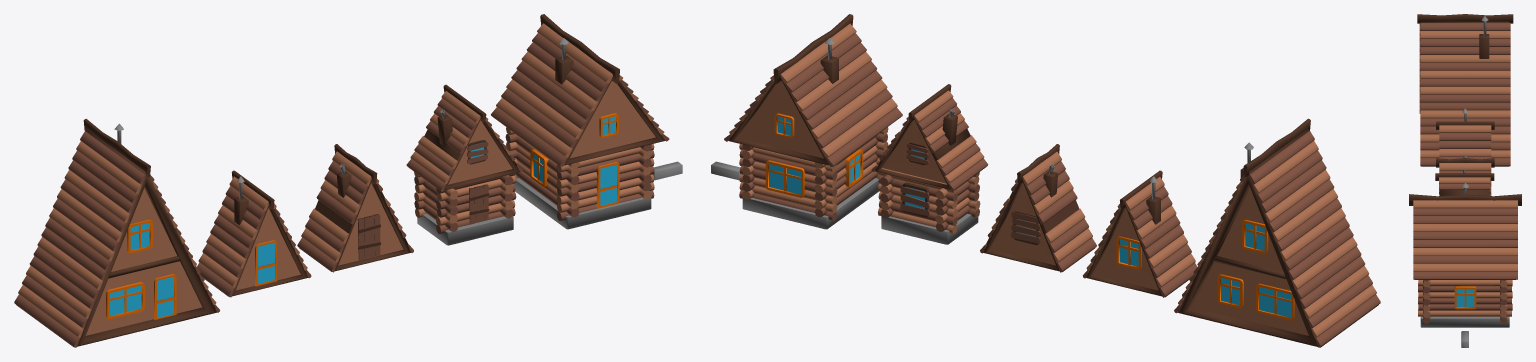
Rendered from Forest_House_Smooth.fbx.
3 views of the same model, side by side, from view 1: azimuth 30°, elevation 25°; view 2: azimuth 150°, elevation 25°; view 3: azimuth 270°, elevation 25° (orthographic). The views are drawn at different scales.
Visible parts, largest first — view 1: Forest_House_Smooth_Type 1_01, Forest_House_Smooth_Type 2_01, Forest_House_Smooth_Type 2_02, Forest_House_Smooth_Type 1_03, Forest_House_Smooth_Type 1_02; view 2: Forest_House_Smooth_Type 1_01, Forest_House_Smooth_Type 2_01, Forest_House_Smooth_Type 2_02, Forest_House_Smooth_Type 1_03, Forest_House_Smooth_Type 1_02; view 3: Forest_House_Smooth_Type 2_01, Forest_House_Smooth_Type 1_01, Forest_House_Smooth_Type 1_02, Forest_House_Smooth_Type 2_02, Forest_House_Smooth_Type 1_03, Step_Smooth.
Boxes of the visible parts, x1=… form: Forest_House_Smooth_Type 1_01: x1=14, y1=118, x2=219, y2=347; Forest_House_Smooth_Type 2_01: x1=491, y1=14, x2=669, y2=229; Forest_House_Smooth_Type 2_02: x1=406, y1=84, x2=522, y2=245; Forest_House_Smooth_Type 1_03: x1=297, y1=144, x2=413, y2=272; Forest_House_Smooth_Type 1_02: x1=197, y1=170, x2=311, y2=297; Forest_House_Smooth_Type 1_01: x1=1174, y1=118, x2=1380, y2=347; Forest_House_Smooth_Type 2_01: x1=724, y1=14, x2=902, y2=229; Forest_House_Smooth_Type 2_02: x1=871, y1=84, x2=988, y2=244; Forest_House_Smooth_Type 1_03: x1=980, y1=144, x2=1096, y2=272; Forest_House_Smooth_Type 1_02: x1=1082, y1=170, x2=1197, y2=297; Forest_House_Smooth_Type 2_01: x1=1409, y1=183, x2=1521, y2=327; Forest_House_Smooth_Type 1_01: x1=1417, y1=14, x2=1513, y2=166; Forest_House_Smooth_Type 1_02: x1=1436, y1=108, x2=1494, y2=159; Forest_House_Smooth_Type 2_02: x1=1435, y1=170, x2=1494, y2=195; Forest_House_Smooth_Type 1_03: x1=1436, y1=156, x2=1494, y2=195; Step_Smooth: x1=1461, y1=331, x2=1468, y2=347.
Size of the model in its own units: 2898 by 757 by 590.
